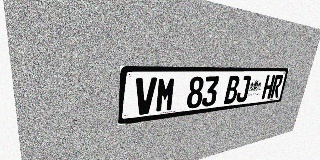3: (201, 76, 219, 107)
8: (186, 76, 205, 109)
B: (223, 76, 240, 104)
H: (261, 75, 275, 99)
J: (235, 75, 251, 103)
M: (155, 77, 176, 113)
R: (270, 75, 284, 98)
V: (134, 77, 157, 116)
